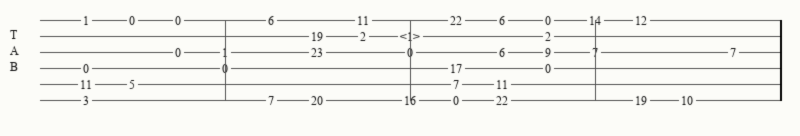0: (83, 62, 93, 75), (129, 14, 139, 27), (175, 46, 185, 59), (175, 14, 185, 27), (222, 62, 232, 75), (407, 46, 417, 59), (453, 94, 463, 107), (545, 14, 555, 27), (545, 62, 555, 75)
1: (83, 14, 93, 27), (222, 46, 232, 59)
10: (681, 94, 697, 107)
11: (80, 78, 96, 91), (357, 14, 373, 27), (496, 78, 512, 91)
12: (635, 14, 651, 27)
14: (589, 14, 605, 27)
16: (404, 94, 420, 107)
17: (450, 62, 466, 75)
19: (311, 30, 327, 43), (635, 94, 651, 107)
2: (360, 30, 370, 43), (545, 30, 555, 43)
20: (311, 94, 327, 107)
22: (450, 14, 466, 27), (496, 94, 512, 107)
23: (311, 46, 327, 59)
3: (83, 94, 93, 107)
5: (129, 78, 139, 91)
6: (268, 14, 278, 27), (499, 46, 509, 59), (499, 14, 509, 27)
7: (268, 94, 278, 107), (453, 78, 463, 91), (592, 46, 602, 59), (730, 46, 740, 59)
9: (545, 46, 555, 59)
harmonic: (400, 30, 424, 43)
